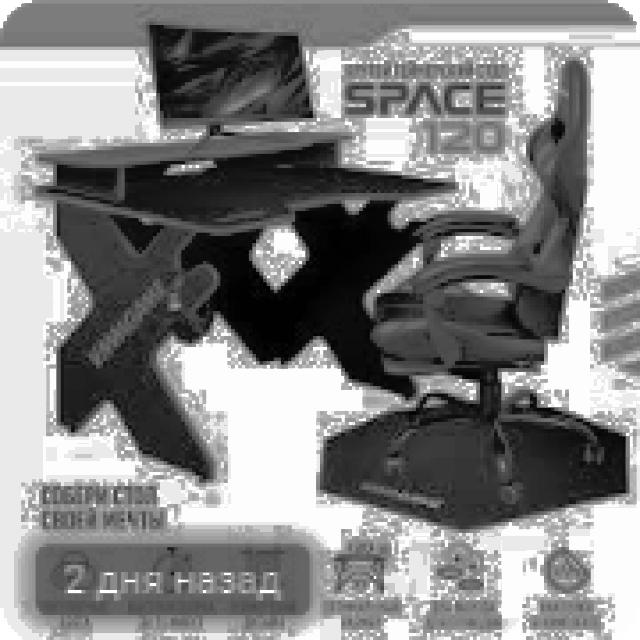table: (32, 132, 455, 479)
